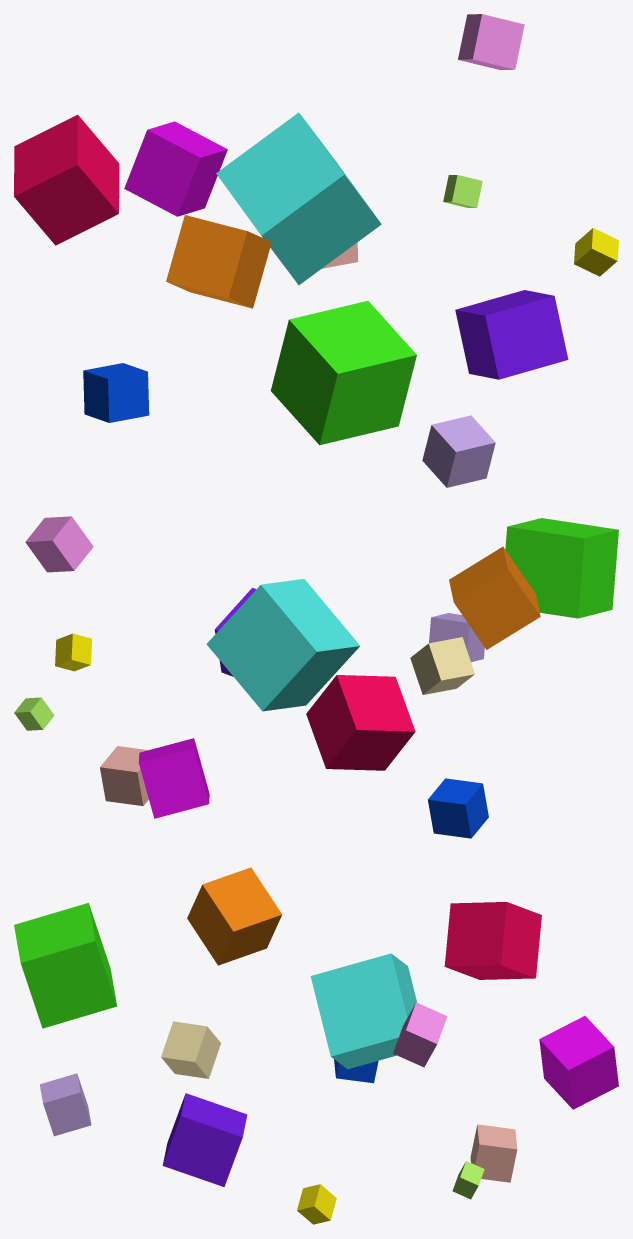
Rendered from sqaureballs-embedded.gltf.
The picture shows the model from 3 angles, top to bottom: view 1: azimuth 30°, elevation 25°; view 2: azimuth 150°, elevation 25°; view 3: azimuth 270°, elevation 25°; orthographic projection. The views are drawn at different scales.
Parts seen in each view (by area): view 1: greensqaure, tintskybluesqaure, redsqaure, purplesqaure, orangesqaure, pink, greensqaure.001, bluesqaure, yellowsqaure.001, yellowsqaure, tintgreen; view 2: tintskybluesqaure, greensqaure, redsqaure, orangesqaure, pink, bluesqaure, yellowsqaure.001, tintgrey, tintred, greensqaure.001, yellowsqaure, tintgreen; view 3: greensqaure, tintskybluesqaure, redsqaure, orangesqaure, purplesqaure, pink, tintgrey, greensqaure.001, tintred, yellowsqaure.001, yellowsqaure, tintgreen (+1 smaller).
Boxes of the visible parts, box(x1,y1,x2,y2) form: greensqaure: box(270, 300, 416, 445); tintskybluesqaure: box(216, 112, 381, 285); redsqaure: box(14, 114, 119, 245); purplesqaure: box(455, 290, 568, 379); orangesqaure: box(166, 215, 271, 308); pink: box(124, 121, 227, 216); greensqaure.001: box(422, 415, 495, 487); bluesqaure: box(83, 363, 149, 422); yellowsqaure.001: box(458, 14, 524, 70); yellowsqaure: box(574, 228, 618, 276); tintgreen: box(443, 175, 482, 208); tintskybluesqaure: box(206, 579, 359, 711); greensqaure: box(505, 518, 618, 618); redsqaure: box(306, 675, 415, 770); orangesqaure: box(449, 546, 540, 649); pink: box(138, 738, 209, 818); bluesqaure: box(428, 778, 488, 838); yellowsqaure.001: box(25, 516, 93, 572); tintgrey: box(410, 637, 474, 694); tintred: box(100, 746, 148, 805); greensqaure.001: box(429, 613, 484, 662); yellowsqaure: box(55, 633, 91, 671); tintgreen: box(14, 697, 54, 730); greensqaure: box(14, 903, 117, 1028); tintskybluesqaure: box(310, 953, 416, 1069); redsqaure: box(444, 902, 541, 979); orangesqaure: box(187, 867, 282, 965); purplesqaure: box(162, 1093, 247, 1186); pink: box(539, 1015, 618, 1109); tintgrey: box(161, 1021, 220, 1078); greensqaure.001: box(39, 1073, 91, 1136); tintred: box(470, 1124, 517, 1182); yellowsqaure.001: box(393, 1002, 447, 1067); yellowsqaure: box(297, 1184, 336, 1224); tintgreen: box(452, 1161, 484, 1199).
Bounding box in the file's own units: 11.63 × 6.2 × 14.14.
